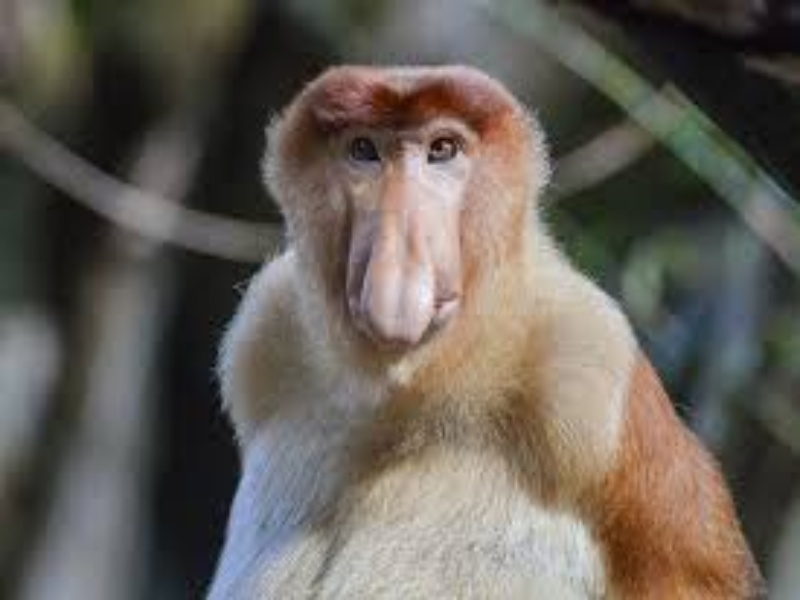monkey: (190, 64, 688, 598)
